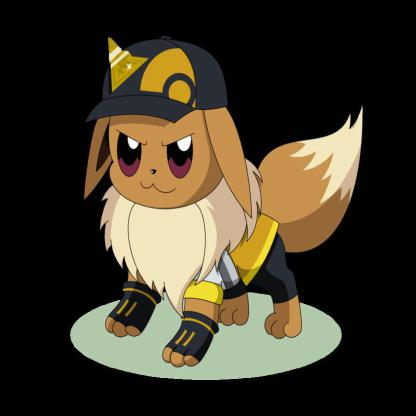Eevee: (1, 1, 401, 407)
